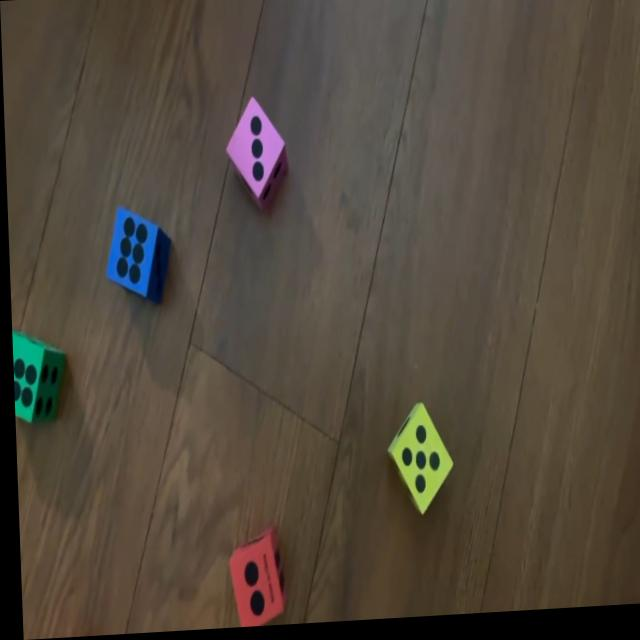blue_block: (101, 203, 168, 307)
red_block: (225, 528, 286, 630)
